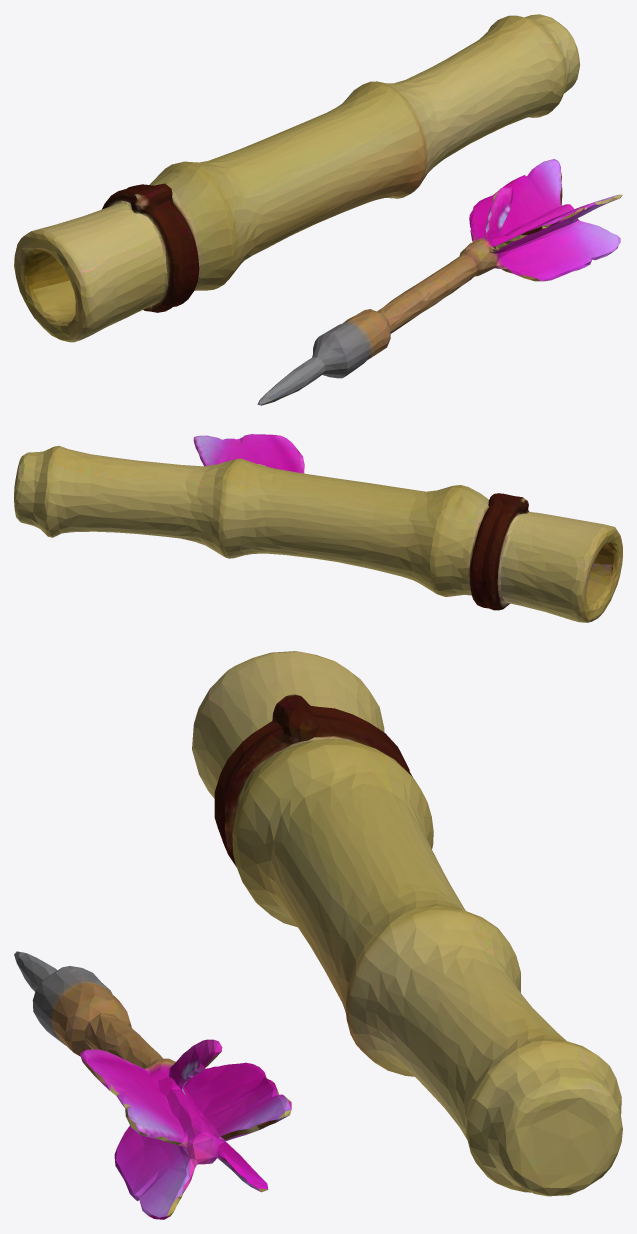
Rendered from blowdart.glb.
3 renders of one model, top to bottom at view 1: azimuth 30°, elevation 25°; view 2: azimuth 150°, elevation 25°; view 3: azimuth 270°, elevation 25°, orthographic. The views are drawn at different scales.
Parts seen in each view (by area): view 1: tmpih222jc5.ply; view 2: tmpih222jc5.ply; view 3: tmpih222jc5.ply.
Part boxes in pixels (box(x1,y1,x2,y2)): tmpih222jc5.ply: box(14, 14, 622, 405); tmpih222jc5.ply: box(14, 434, 622, 622); tmpih222jc5.ply: box(14, 651, 622, 1219).
Size of the model in its own units: 1.99 by 0.5159 by 1.11.
1 material, 1 textured.
